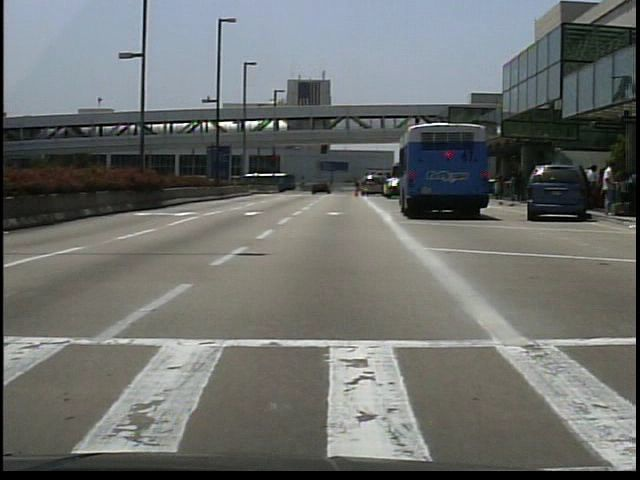person: (598, 162, 619, 218), (597, 165, 612, 214), (515, 168, 528, 204), (586, 164, 600, 182), (316, 182, 325, 198)
